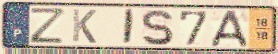7: (177, 10, 210, 47)
A: (209, 9, 251, 48)
I: (122, 8, 137, 46)
K: (71, 7, 99, 45)
S: (139, 9, 175, 47)
Z: (28, 6, 68, 44)
